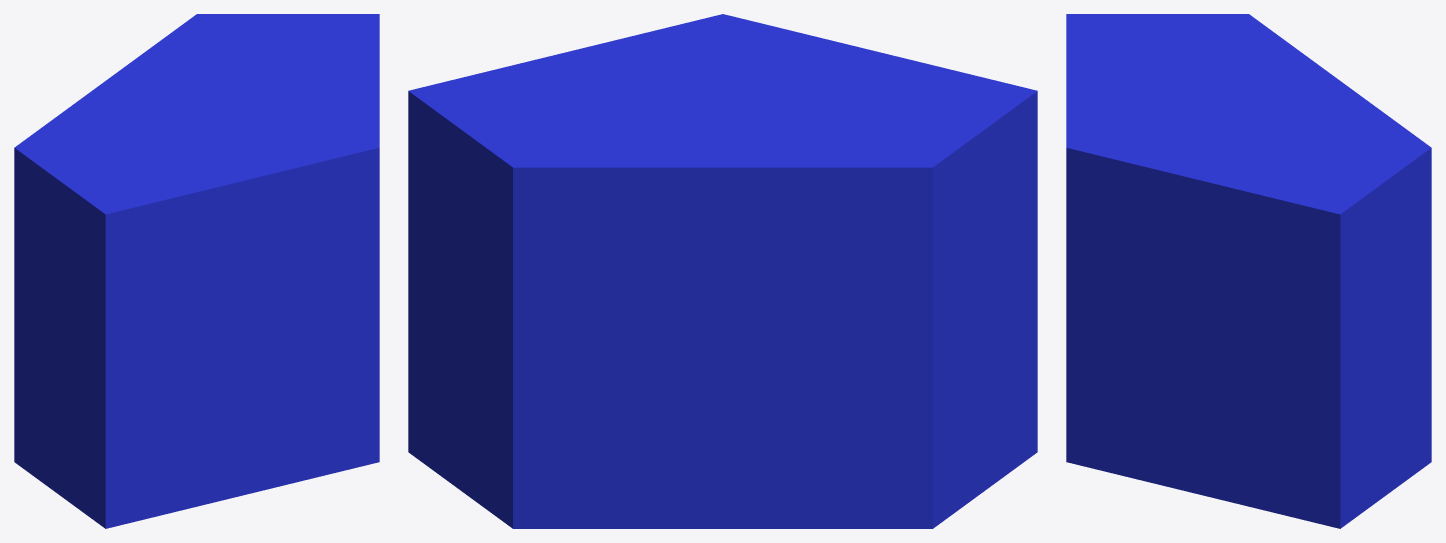
Rendered from module-corner_water_001.glb.
3 views of the same model, side by side, from view 1: azimuth 30°, elevation 25°; view 2: azimuth 150°, elevation 25°; view 3: azimuth 270°, elevation 25° (orthographic). The views are drawn at different scales.
Visible parts, largest first — view 1: module-corner_water_001; view 2: module-corner_water_001; view 3: module-corner_water_001.
Boxes of the visible parts, x1,y1,x2,y2 form: module-corner_water_001: [14, 14, 379, 528]; module-corner_water_001: [408, 14, 1037, 528]; module-corner_water_001: [1066, 14, 1431, 528].
Bounding box in the file's own units: 0.6495 × 0.475 × 0.5.
